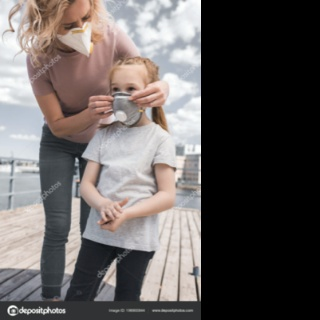with_mask: (57, 7, 93, 60), (110, 80, 145, 126)
